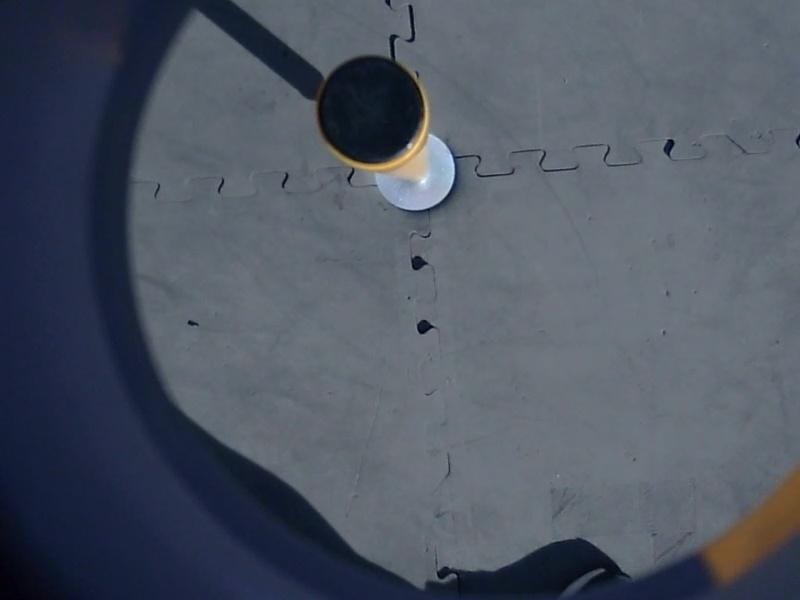tip: (310, 48, 436, 178)
